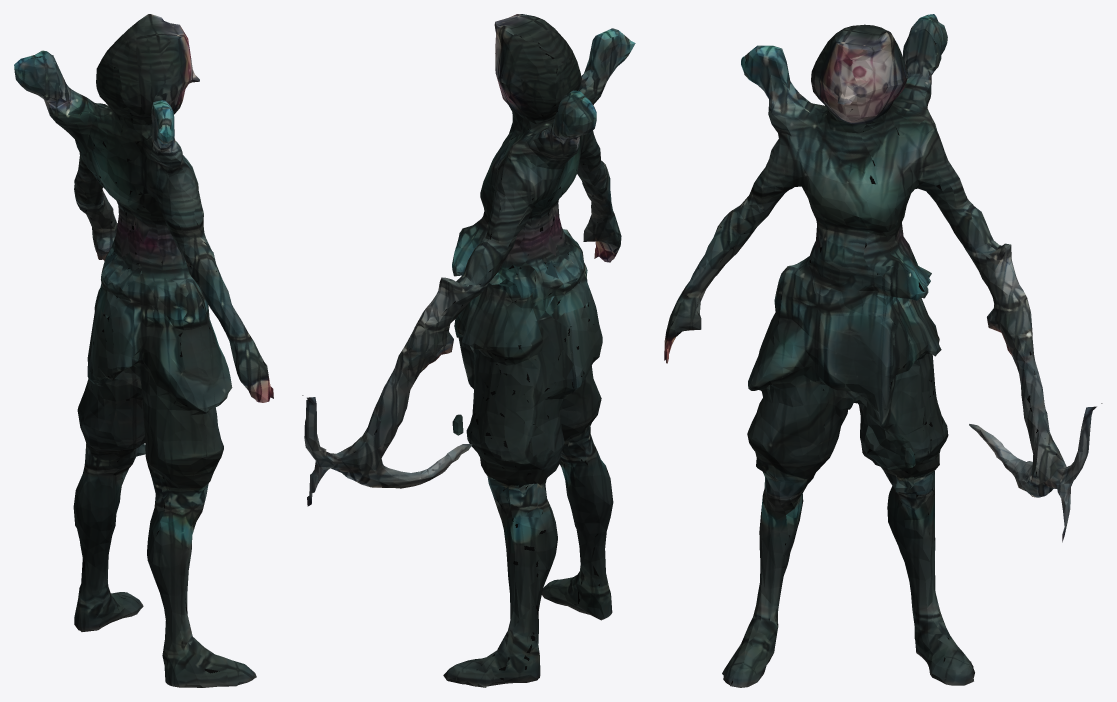
File: monster_ninja_1.glb
3 renders of one model, left to right at view 1: azimuth 30°, elevation 25°; view 2: azimuth 150°, elevation 25°; view 3: azimuth 270°, elevation 25°, orthographic. The views are drawn at different scales.
Visible parts, largest first — view 1: zzzz9; view 2: zzzz9; view 3: zzzz9.
Boxes of the visible parts, x1,y1,x2,y2 form: zzzz9: (14, 14, 273, 687); zzzz9: (302, 14, 635, 687); zzzz9: (664, 14, 1102, 687).
Size of the model in its own units: 0.7463 by 1.99 by 1.22.
1 material, 1 textured.
